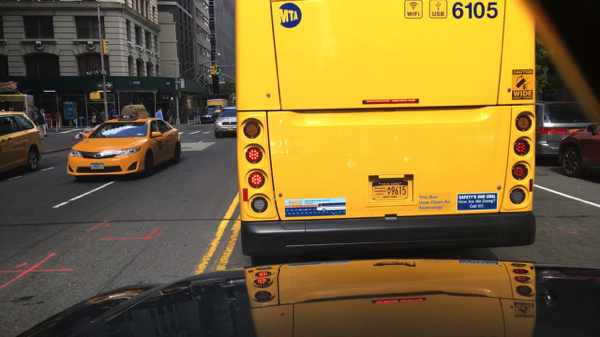bus: (234, 0, 535, 266)
car: (66, 104, 182, 182), (532, 100, 592, 162), (0, 110, 44, 180), (559, 120, 599, 176), (214, 105, 241, 137), (197, 106, 217, 124), (206, 98, 224, 112)
person: (34, 109, 44, 137), (39, 109, 49, 131), (89, 113, 99, 127), (191, 108, 198, 125), (109, 107, 118, 120), (155, 108, 163, 120), (166, 110, 170, 120)
traffic light: (103, 38, 109, 55), (90, 91, 101, 100), (214, 66, 220, 77), (210, 66, 214, 76)
traffic sign: (98, 80, 113, 88), (173, 80, 181, 84)
